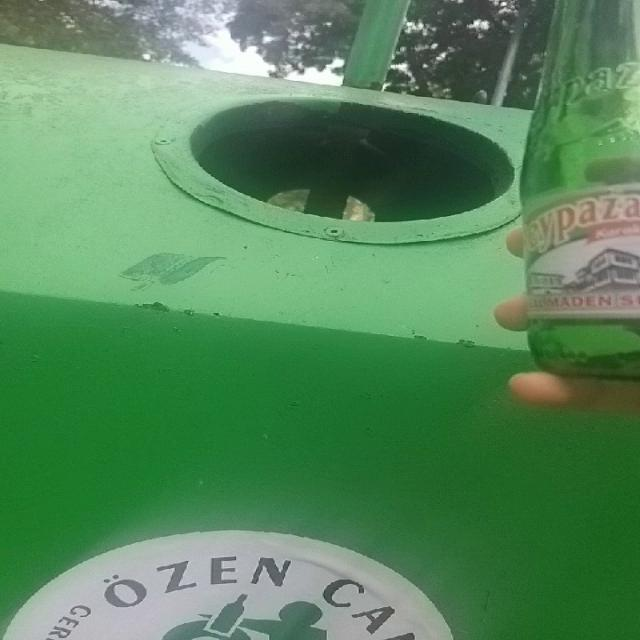glass: (523, 0, 640, 380)
